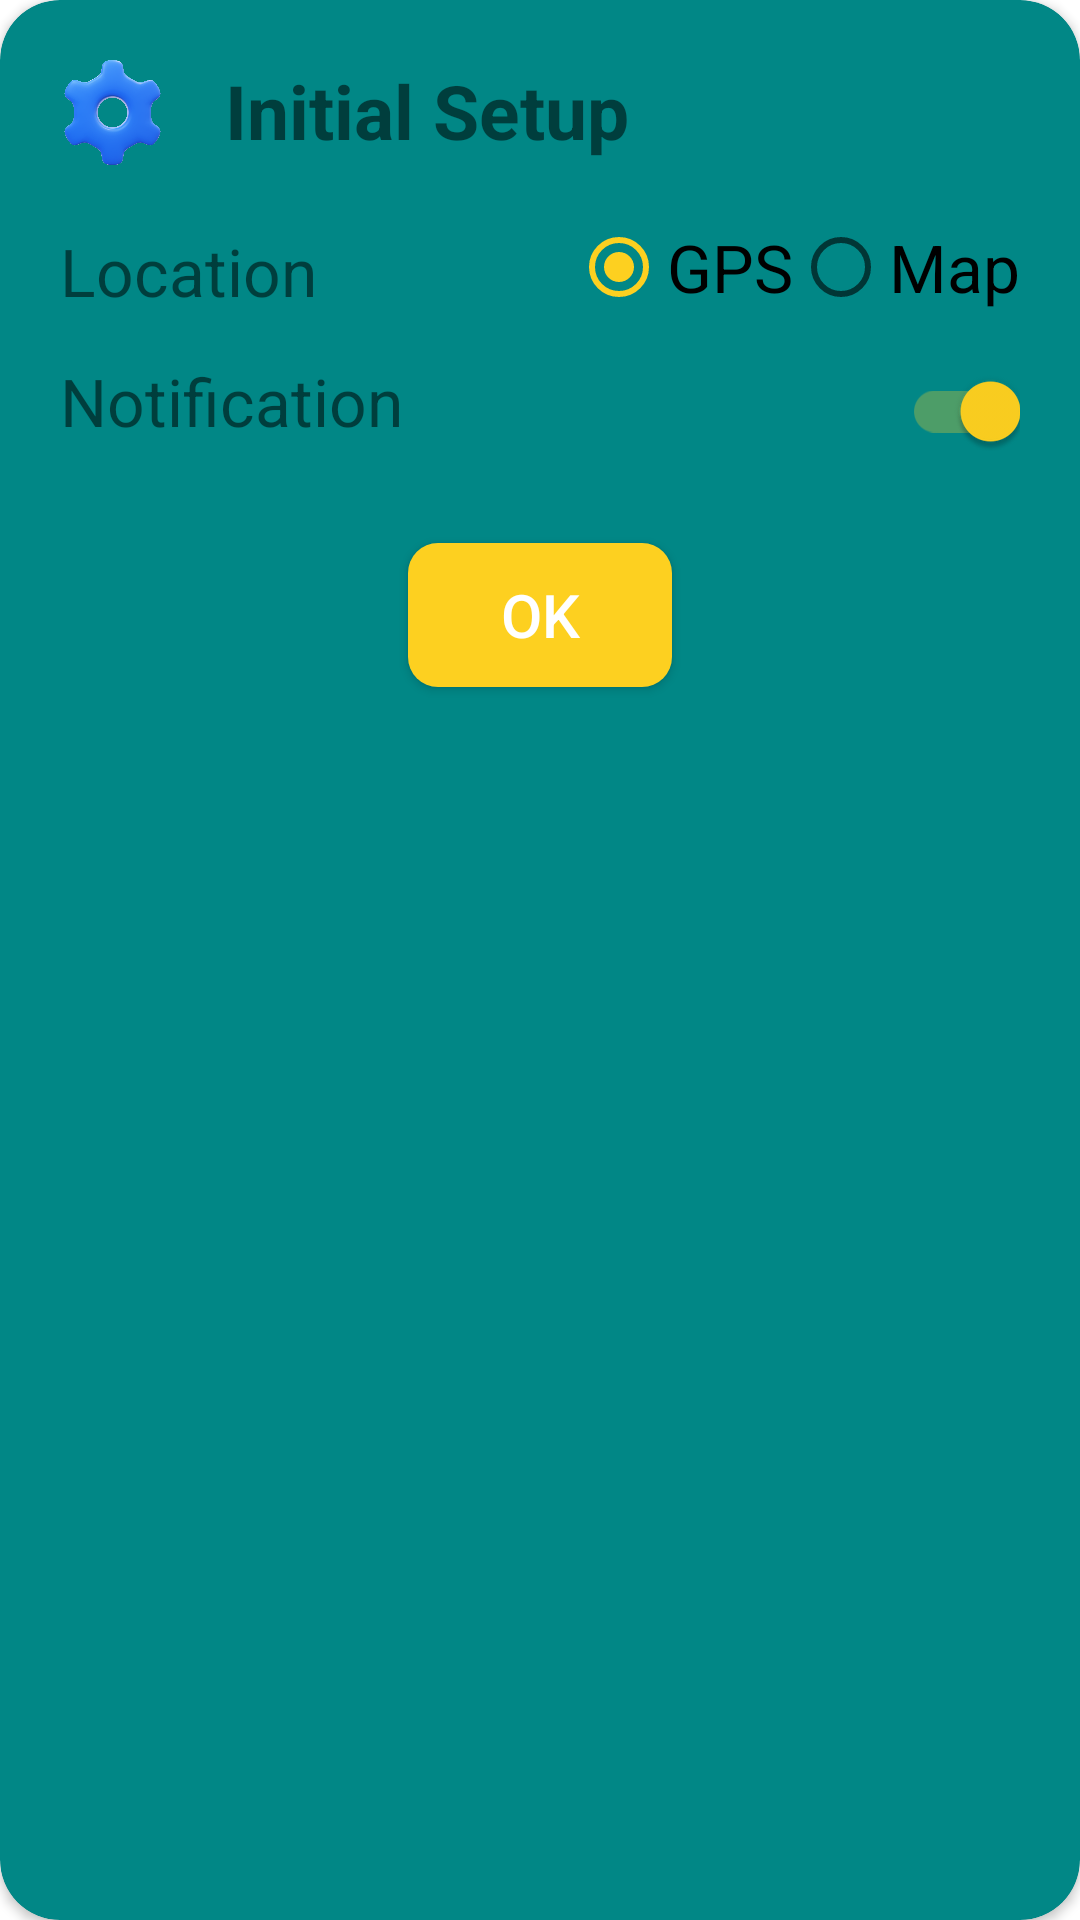

Named icons in this screenshot (1080px×1920px) and their centers, point (x, y):
settingsone: point (112, 112)
